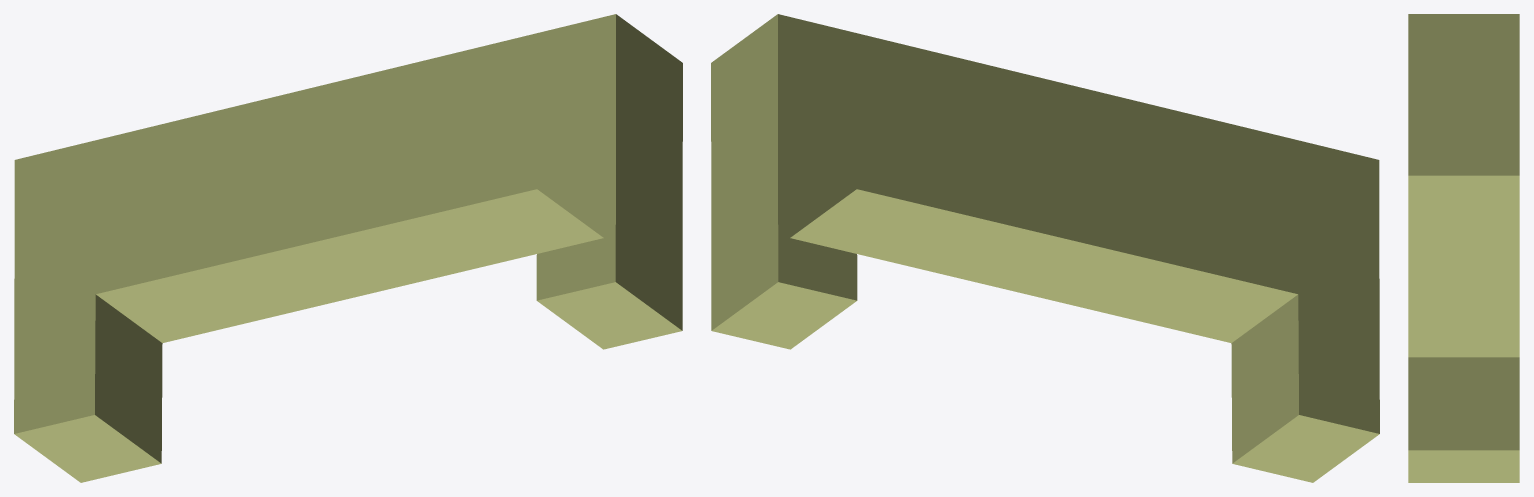
3 renders of one model, left to right at view 1: azimuth 30°, elevation 25°; view 2: azimuth 150°, elevation 25°; view 3: azimuth 270°, elevation 25°, orthographic. The views are drawn at different scales.
Visible parts, largest first — view 1: 0_3_2_0_2_2_0_0_0; view 2: 0_3_2_0_2_2_0_0_0; view 3: 0_3_2_0_2_2_0_0_0.
Part boxes in pixels (bbox=[...]): 0_3_2_0_2_2_0_0_0: bbox=[14, 14, 682, 482]; 0_3_2_0_2_2_0_0_0: bbox=[711, 14, 1379, 482]; 0_3_2_0_2_2_0_0_0: bbox=[1408, 14, 1519, 482].
Bounding box in the file's own units: 31.2 × 13.59 × 6.
